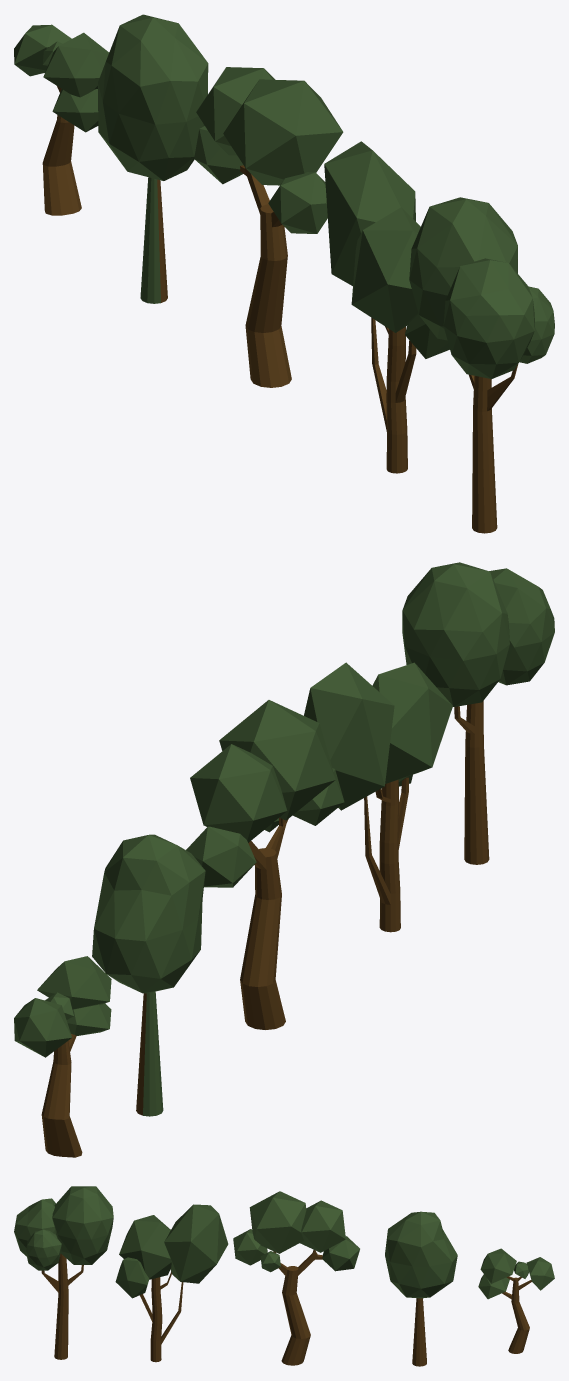
3 views of the same model, one above another, from view 1: azimuth 30°, elevation 25°; view 2: azimuth 150°, elevation 25°; view 3: azimuth 270°, elevation 25° (orthographic). The views are drawn at different scales.
Parts seen in each view (by area): view 1: arvore3, arvore1, arvore2, Cylinder, Cylinder.001; view 2: arvore3, arvore1, arvore2, Cylinder, Cylinder.001; view 3: arvore3, arvore2, arvore1, Cylinder, Cylinder.001.
Boxes of the visible parts, x1=… form: arvore3: x1=194, y1=67, x2=343, y2=387; arvore1: x1=409, y1=197, x2=554, y2=533; arvore2: x1=324, y1=141, x2=449, y2=473; Cylinder: x1=98, y1=14, x2=208, y2=303; Cylinder.001: x1=14, y1=24, x2=109, y2=215; arvore3: x1=186, y1=700, x2=344, y2=1029; arvore1: x1=402, y1=562, x2=554, y2=864; arvore2: x1=304, y1=662, x2=452, y2=932; Cylinder: x1=92, y1=834, x2=205, y2=1116; Cylinder.001: x1=14, y1=956, x2=111, y2=1157; arvore3: x1=233, y1=1191, x2=359, y2=1365; arvore2: x1=115, y1=1204, x2=228, y2=1362; arvore1: x1=14, y1=1186, x2=113, y2=1359; Cylinder: x1=385, y1=1211, x2=457, y2=1366; Cylinder.001: x1=478, y1=1248, x2=554, y2=1353.
Size of the model in its own units: 88.67 by 266 by 740.
